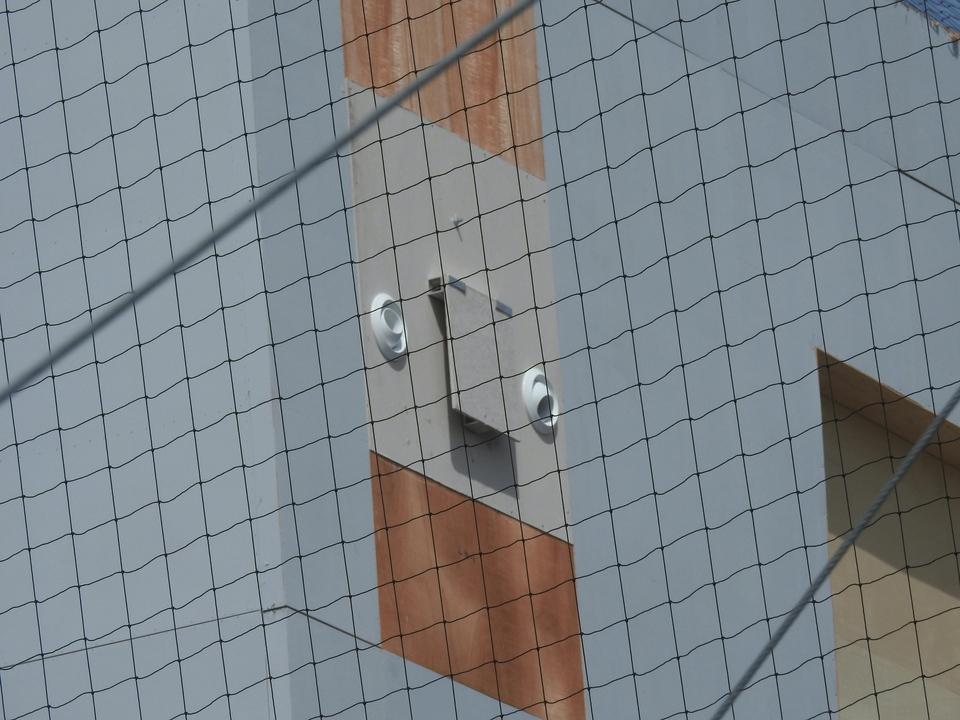facade: (371, 270, 559, 441)
